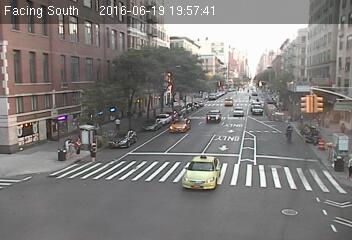neg: (196, 78, 216, 106), (112, 63, 132, 90), (233, 80, 253, 107), (31, 83, 51, 109), (91, 84, 109, 107), (60, 55, 77, 78), (293, 60, 307, 79), (128, 100, 142, 117), (159, 66, 172, 84), (265, 73, 275, 86)
pos: (70, 136, 89, 161), (337, 151, 351, 178), (86, 140, 103, 162), (60, 138, 73, 156), (112, 117, 125, 134), (338, 121, 350, 137)
